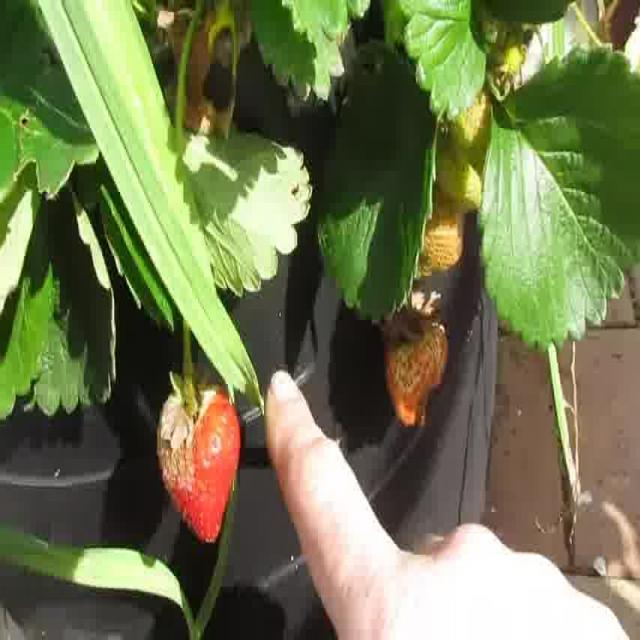Fruta sana: (381, 309, 449, 429), (443, 75, 494, 184), (413, 192, 468, 273), (436, 131, 486, 212)
Moho gris: (156, 372, 242, 546)
